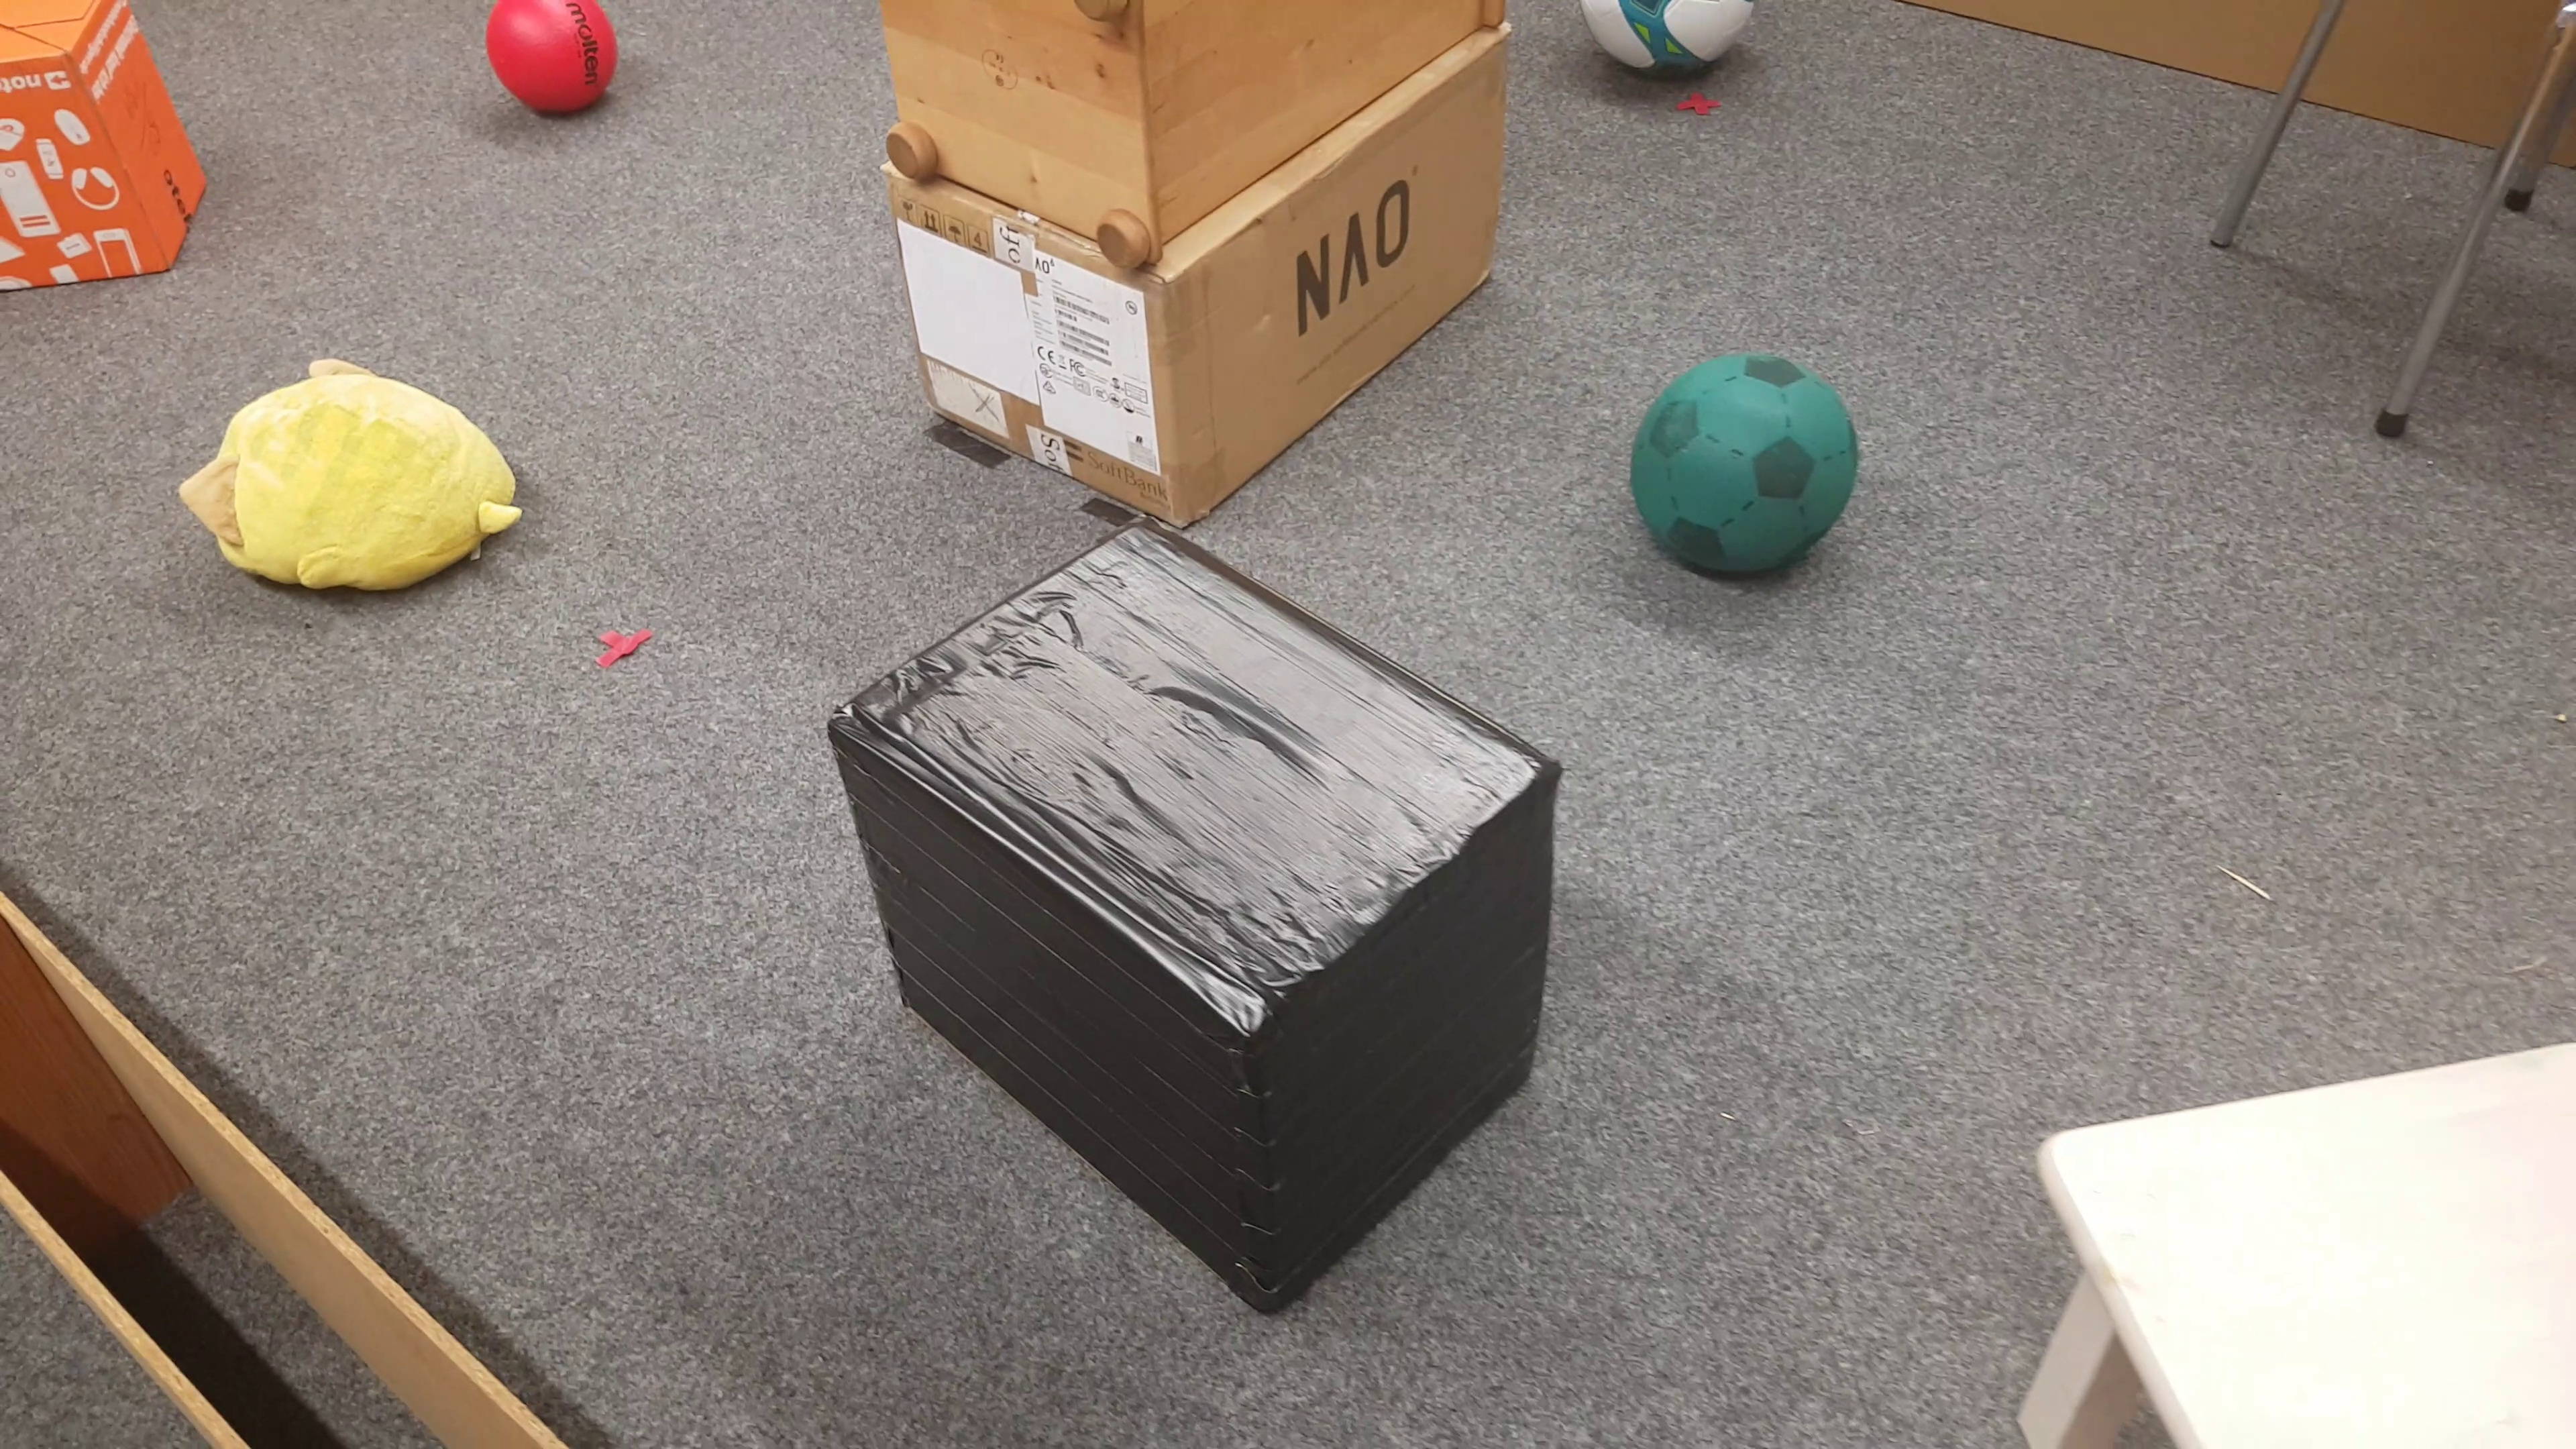grasp: (170, 356, 524, 600)
kick: (1633, 347, 1865, 584), (1582, 2, 1757, 103), (487, 5, 623, 131)
push: (849, 524, 1562, 1316), (0, 2, 209, 299)
